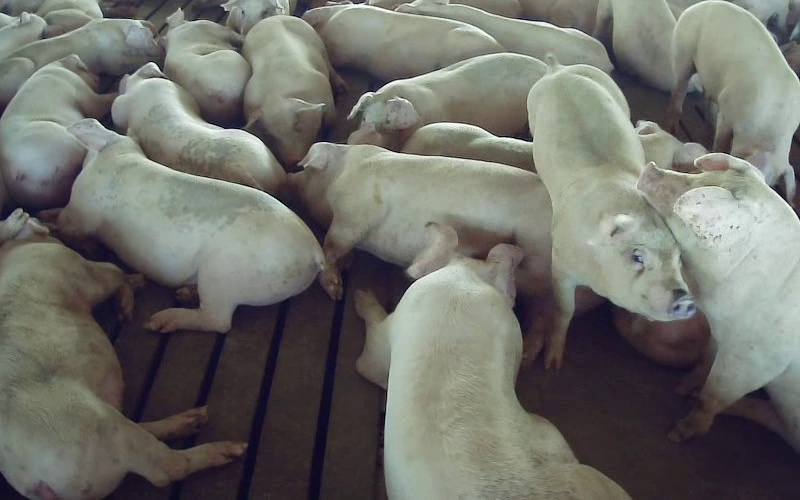pig: (356, 224, 628, 499), (59, 119, 322, 331), (527, 59, 695, 367), (639, 153, 799, 451), (669, 0, 799, 202), (112, 63, 286, 194), (351, 53, 546, 147), (0, 55, 114, 209), (242, 15, 344, 170), (396, 0, 612, 72), (303, 5, 503, 80), (0, 19, 161, 109), (162, 8, 250, 126), (401, 123, 535, 171)
